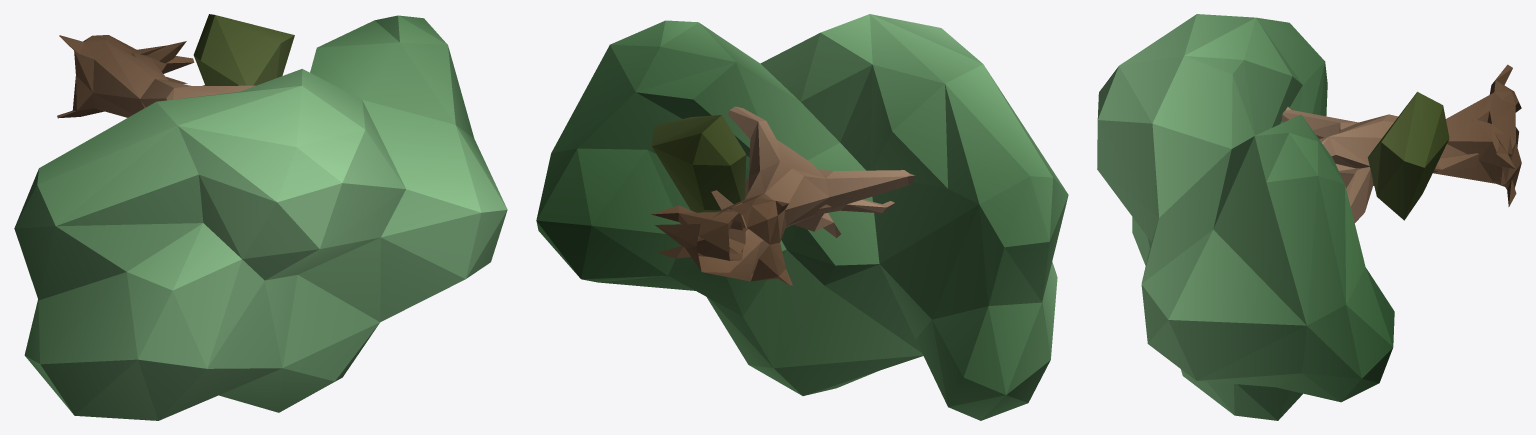
3 views of the same model, side by side, from view 1: azimuth 30°, elevation 25°; view 2: azimuth 150°, elevation 25°; view 3: azimuth 270°, elevation 25° (orthographic).
Visible parts, largest first — view 1: Arbol3_0; view 2: Arbol3_0; view 3: Arbol3_0.
Boxes of the visible parts, x1,y1,x2,y2 form: Arbol3_0: (14, 14, 507, 420); Arbol3_0: (536, 14, 1068, 420); Arbol3_0: (1097, 14, 1521, 420).
Bounding box in the file's own units: 1214 × 862 × 948.
Materials: 1 (1 with a texture image).
